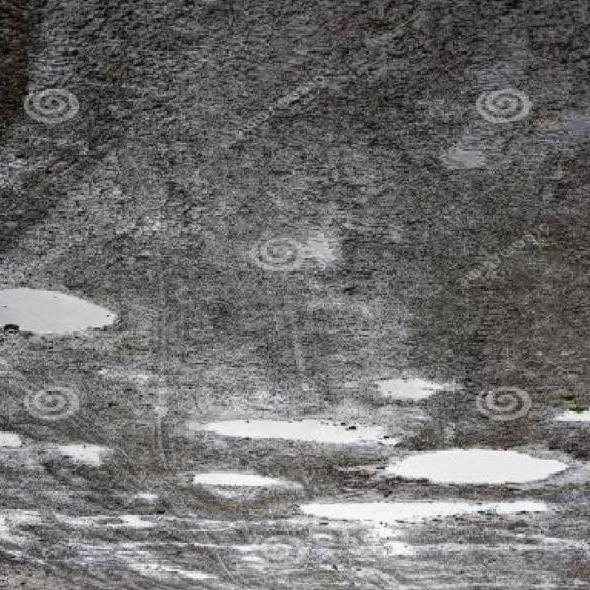pothole: (178, 402, 407, 472), (0, 276, 131, 368), (359, 442, 571, 492), (161, 458, 305, 513), (300, 495, 513, 529), (361, 364, 450, 405), (0, 489, 45, 552), (39, 436, 110, 473), (540, 396, 590, 434), (0, 420, 27, 459)
